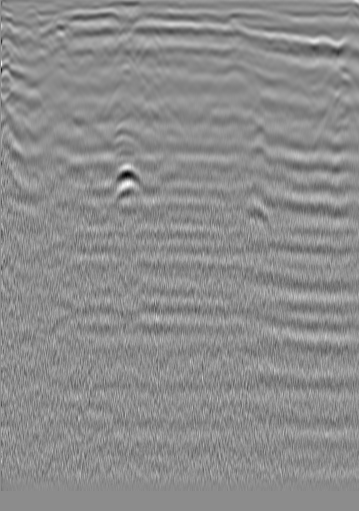가스: (106, 164, 145, 190)
상수: (17, 26, 37, 46)
오수: (313, 28, 333, 48)
우수: (159, 33, 179, 53)
